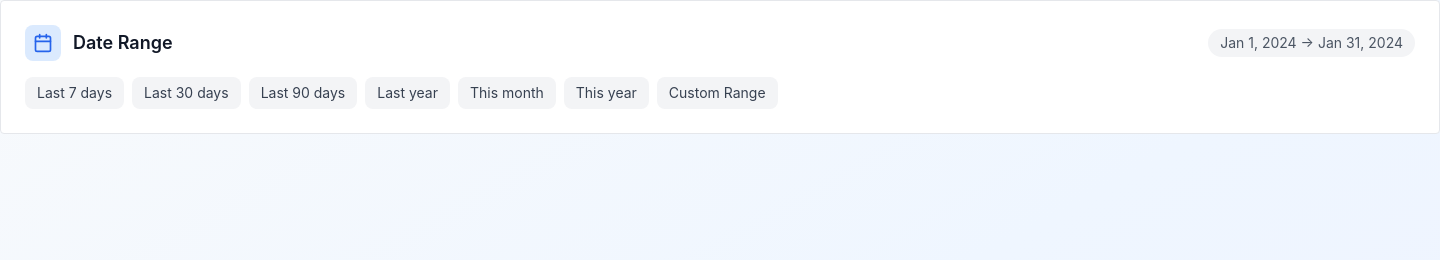
Test: DateRangeSelector › shows custom date inputs when Custom Range is clicked
Click the button "Custom Range".
click(717, 93)  # box [657,77,778,109]
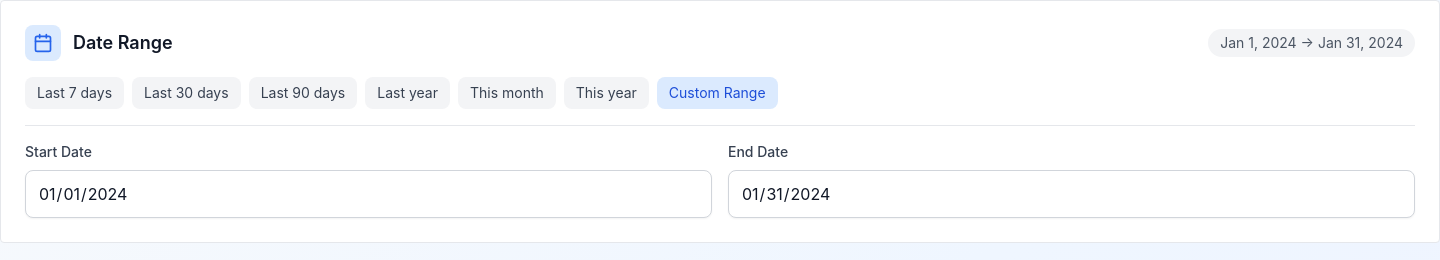
Now the date field labelled "Start Date" is shown, box [25,170,712,218]
Now the date field labelled "End Date" is shown, box [728,170,1415,218]
